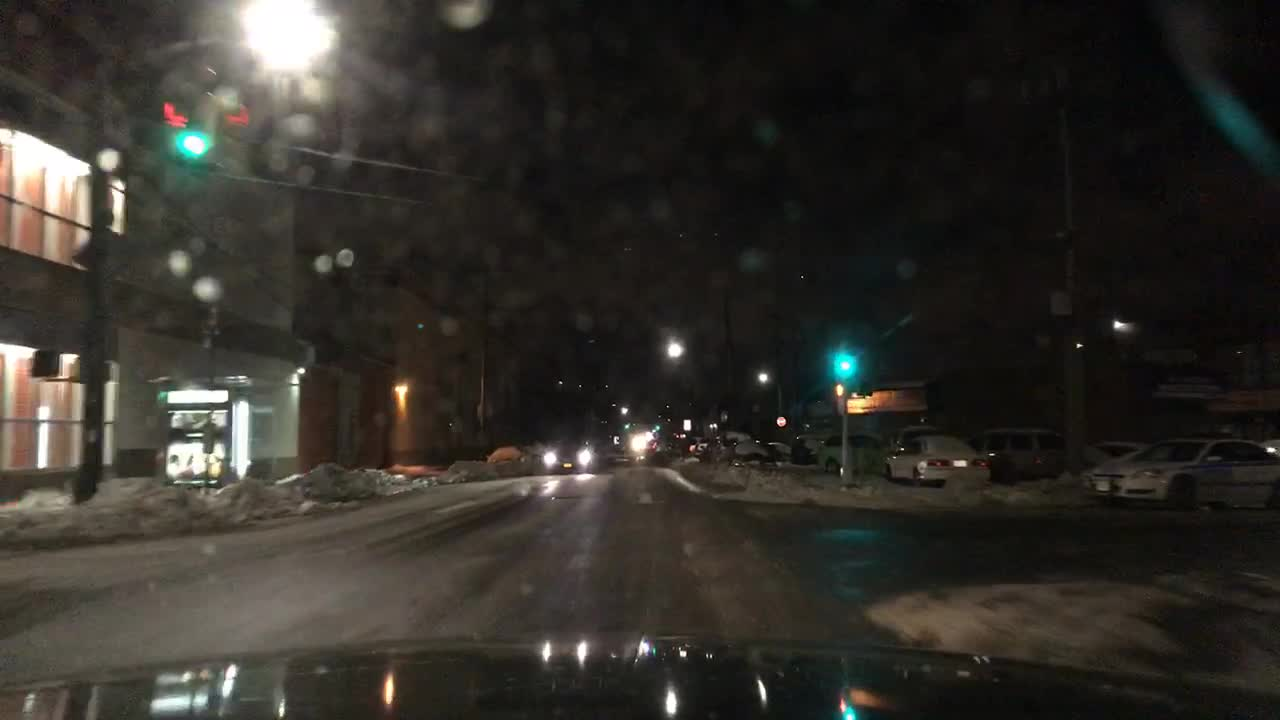car: (1080, 430, 1279, 511), (878, 433, 991, 487), (731, 432, 854, 474), (538, 445, 596, 474), (685, 433, 714, 454)
traffic light: (167, 125, 212, 161), (27, 351, 61, 378), (836, 351, 853, 381)
